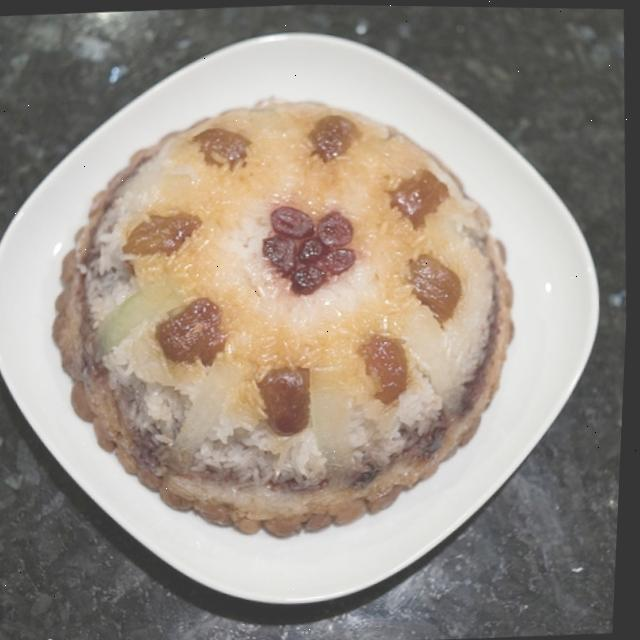米饭主食: (36, 89, 531, 534)
